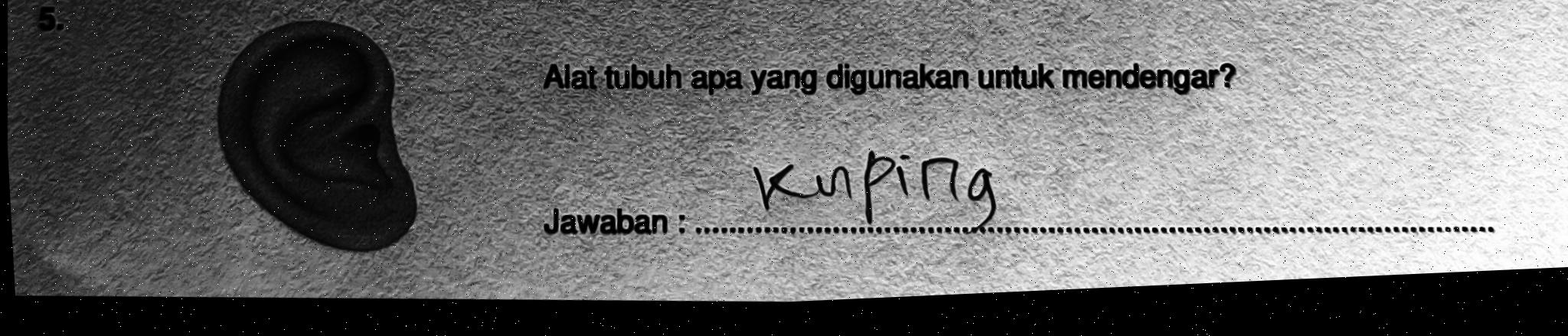jawaban: (743, 144, 1020, 237)
